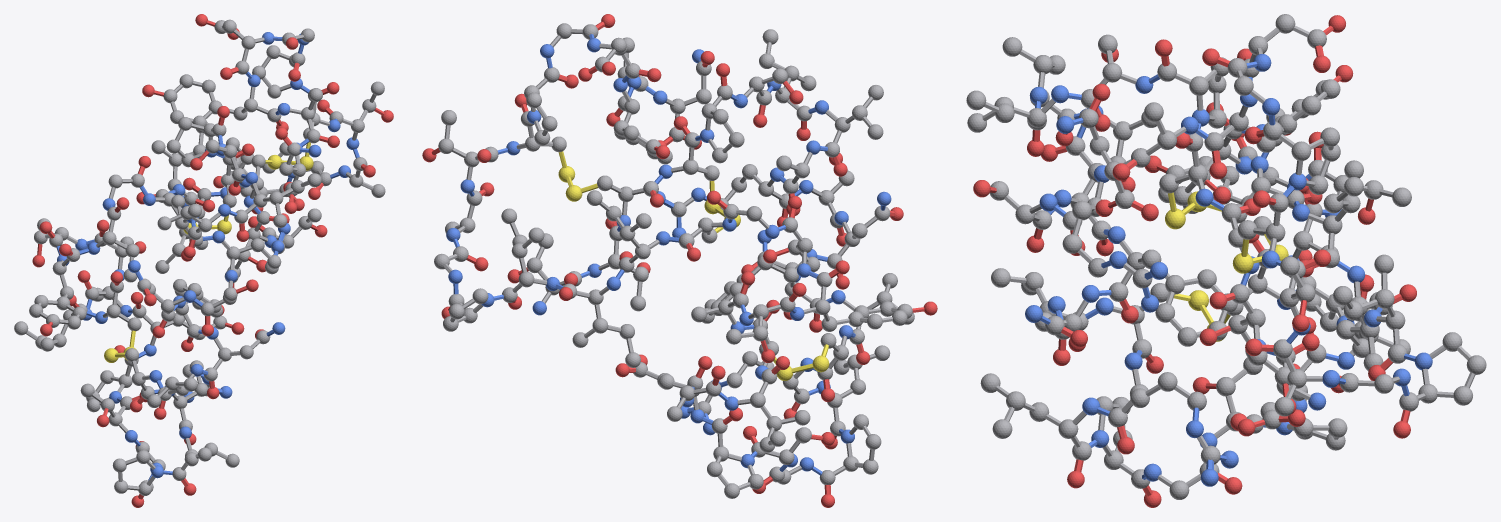
3 renders of one model, left to right at view 1: azimuth 30°, elevation 25°; view 2: azimuth 150°, elevation 25°; view 3: azimuth 270°, elevation 25°, orthographic. The views are drawn at different scales.
Visible parts, largest first — view 1: input.pdb_0, input.pdb_2, input.pdb_1, input.pdb_5, input.pdb_4, input.pdb_8, input.pdb_9, input.pdb_6, input.pdb_3, input.pdb_7; view 2: input.pdb_0, input.pdb_2, input.pdb_1, input.pdb_5, input.pdb_4, input.pdb_8, input.pdb_9, input.pdb_6, input.pdb_3, input.pdb_7; view 3: input.pdb_0, input.pdb_2, input.pdb_1, input.pdb_5, input.pdb_4, input.pdb_8, input.pdb_9, input.pdb_3, input.pdb_6, input.pdb_7.
Part boxes in pixels (bbox=[...]): input.pdb_0: bbox=[14, 19, 385, 495]; input.pdb_2: bbox=[32, 14, 393, 507]; input.pdb_1: bbox=[57, 32, 359, 478]; input.pdb_5: bbox=[31, 33, 374, 490]; input.pdb_4: bbox=[26, 25, 376, 489]; input.pdb_8: bbox=[37, 20, 384, 499]; input.pdb_9: bbox=[37, 22, 379, 496]; input.pdb_6: bbox=[57, 36, 358, 476]; input.pdb_3: bbox=[104, 155, 313, 362]; input.pdb_7: bbox=[56, 37, 359, 480]; input.pdb_0: bbox=[434, 23, 914, 498]; input.pdb_2: bbox=[422, 14, 937, 507]; input.pdb_1: bbox=[446, 38, 891, 471]; input.pdb_5: bbox=[444, 29, 896, 489]; input.pdb_4: bbox=[443, 29, 898, 487]; input.pdb_8: bbox=[431, 21, 924, 494]; input.pdb_9: bbox=[436, 24, 918, 489]; input.pdb_6: bbox=[453, 36, 885, 472]; input.pdb_3: bbox=[558, 166, 829, 380]; input.pdb_7: bbox=[453, 34, 885, 475]; input.pdb_0: bbox=[966, 14, 1486, 499]; input.pdb_2: bbox=[973, 15, 1416, 507]; input.pdb_1: bbox=[1025, 54, 1432, 486]; input.pdb_5: bbox=[989, 25, 1472, 487]; input.pdb_4: bbox=[982, 27, 1475, 486]; input.pdb_8: bbox=[990, 25, 1408, 496]; input.pdb_9: bbox=[991, 29, 1410, 491]; input.pdb_3: bbox=[1165, 191, 1288, 341]; input.pdb_6: bbox=[1035, 61, 1415, 477]; input.pdb_7: bbox=[1035, 62, 1410, 479].
Bounding box in the file's own units: 28.14 × 27.81 × 22.3.
